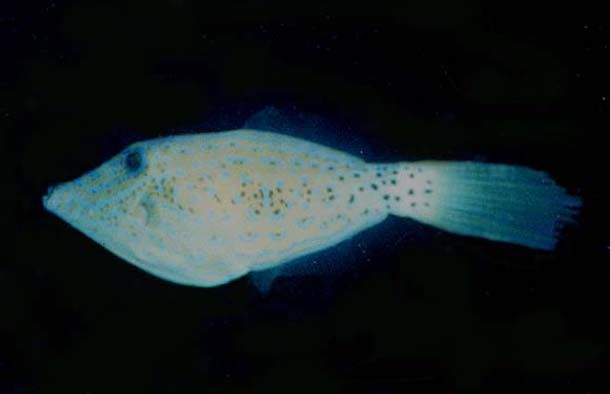fish: (43, 110, 578, 290)
